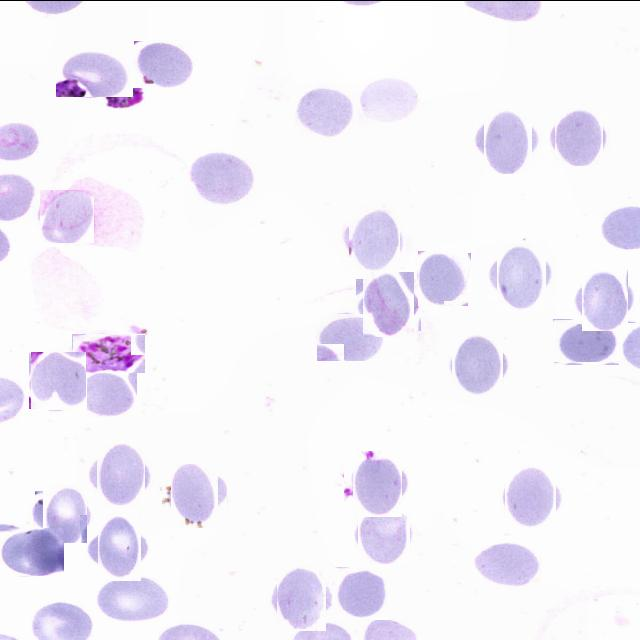red blood cell: (186, 150, 256, 204), (94, 573, 172, 621), (56, 50, 133, 96), (492, 245, 552, 304), (359, 275, 418, 333), (294, 83, 358, 136), (449, 336, 507, 394), (502, 468, 560, 526), (345, 211, 403, 269), (348, 454, 406, 512), (272, 568, 330, 626), (473, 540, 542, 588), (316, 312, 383, 360), (479, 112, 536, 168), (356, 505, 413, 561), (29, 352, 86, 408), (92, 447, 148, 502), (166, 467, 222, 522), (0, 527, 64, 575), (553, 318, 619, 364), (578, 272, 633, 326), (92, 520, 146, 574), (40, 188, 94, 242), (552, 109, 606, 163), (133, 39, 193, 87), (416, 250, 469, 304), (335, 566, 389, 619), (78, 370, 137, 417), (39, 486, 91, 538)
schizont: (72, 333, 145, 372)
